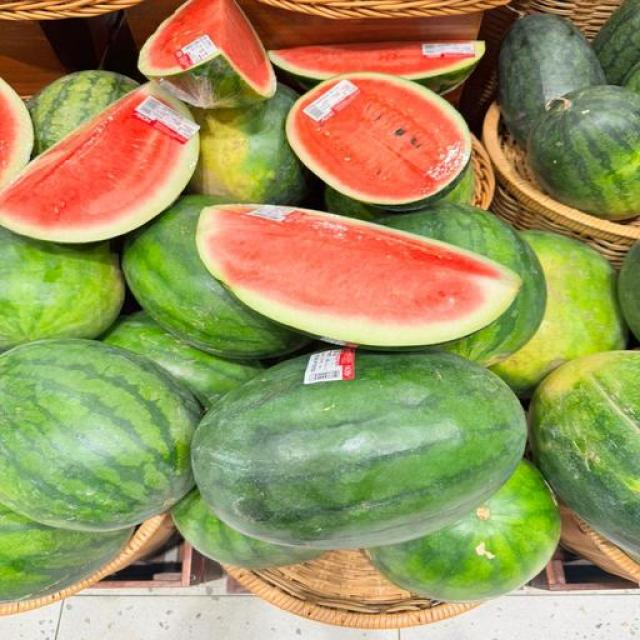organic: (193, 352, 526, 548), (197, 205, 521, 348), (0, 339, 199, 531), (208, 205, 503, 326), (0, 83, 198, 243), (123, 195, 308, 359), (380, 203, 546, 366), (0, 85, 184, 231), (368, 462, 559, 602), (287, 72, 472, 211), (288, 74, 469, 203), (529, 352, 639, 557), (492, 232, 626, 397), (0, 228, 124, 351), (104, 312, 262, 407), (138, 0, 276, 108), (528, 87, 639, 219), (499, 14, 606, 147), (190, 85, 307, 204), (0, 505, 132, 602), (172, 490, 321, 568), (268, 42, 484, 94), (139, 25, 274, 108), (147, 0, 272, 87), (28, 70, 138, 153), (272, 42, 474, 77), (139, 55, 272, 108), (375, 159, 472, 213), (593, 0, 639, 84), (412, 43, 484, 96), (0, 79, 33, 186), (405, 57, 481, 96), (324, 185, 393, 221), (324, 185, 386, 221), (618, 243, 639, 339), (434, 162, 476, 206), (0, 92, 19, 177), (623, 59, 639, 93)
